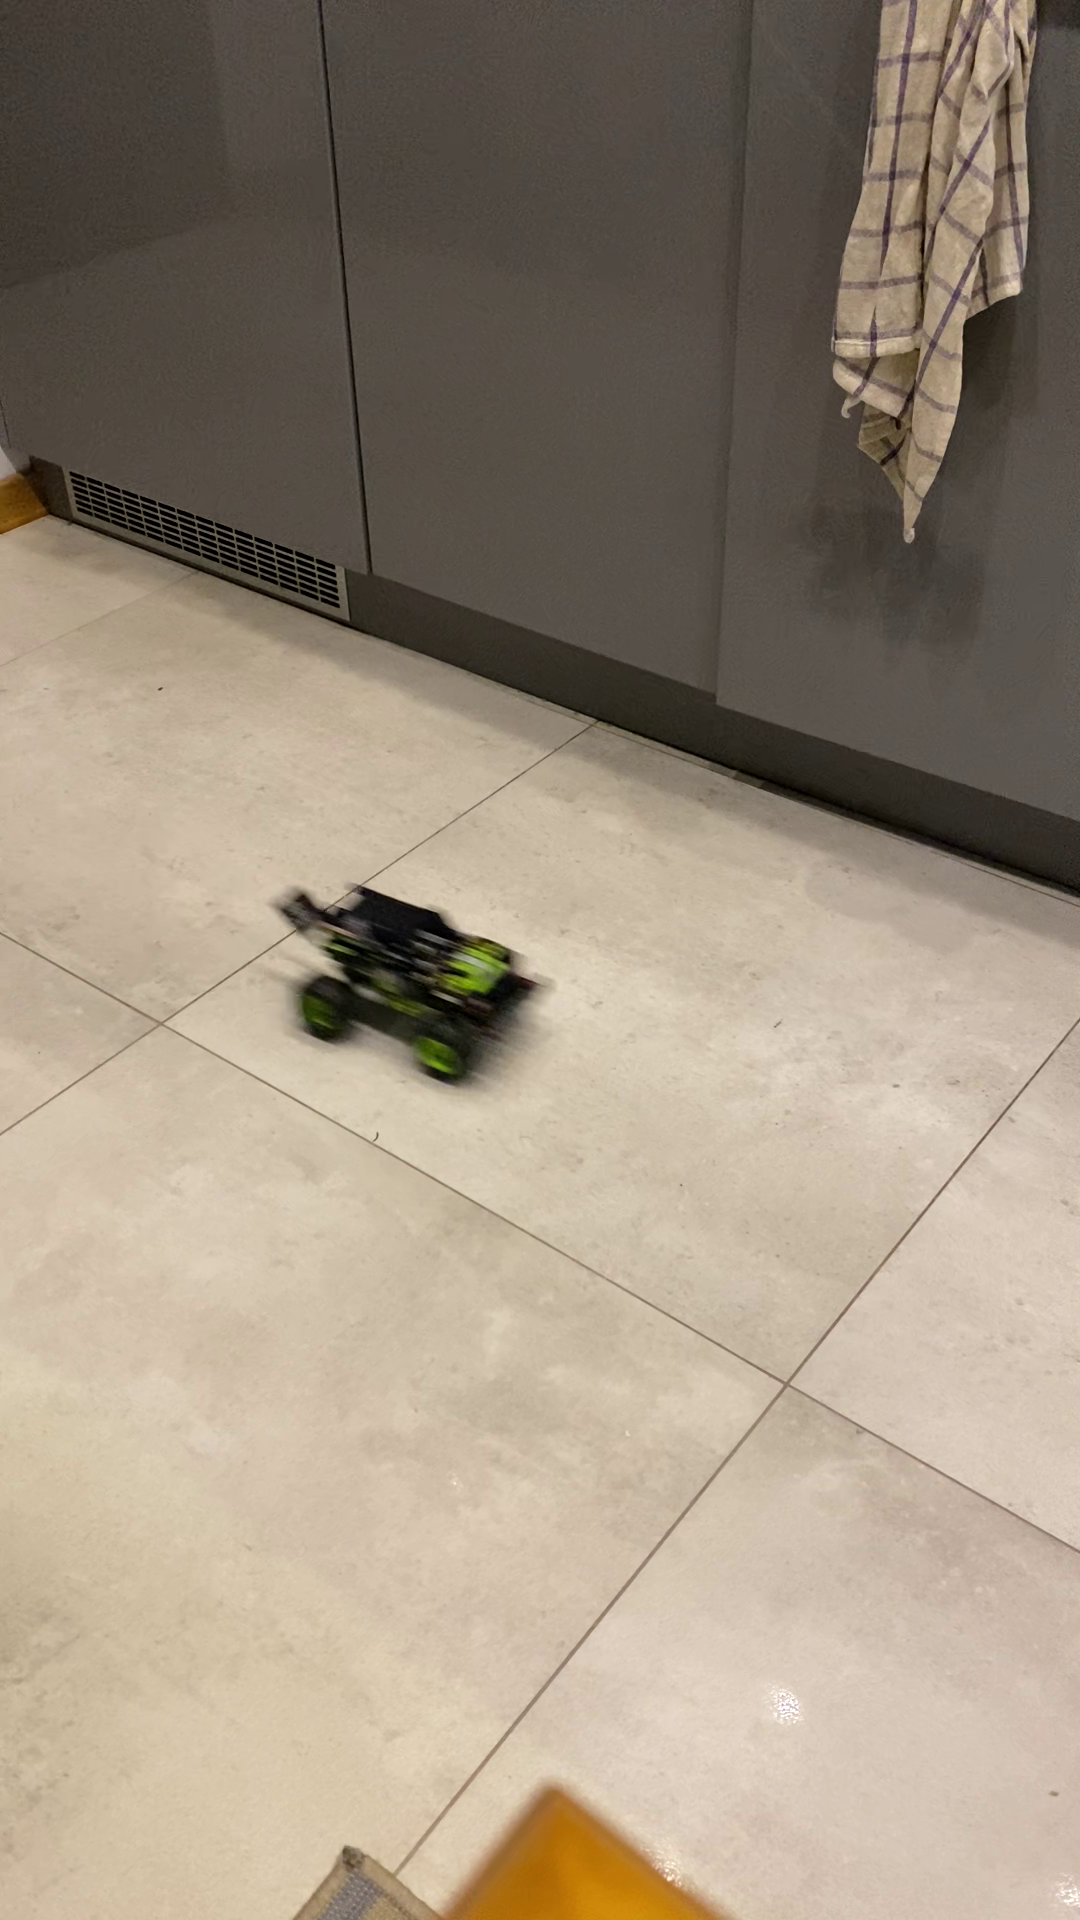car: (303, 889, 553, 1084)
